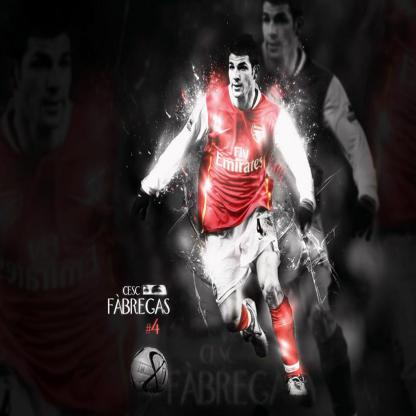face: (25, 43, 76, 128), (264, 6, 294, 59), (230, 57, 255, 98)
